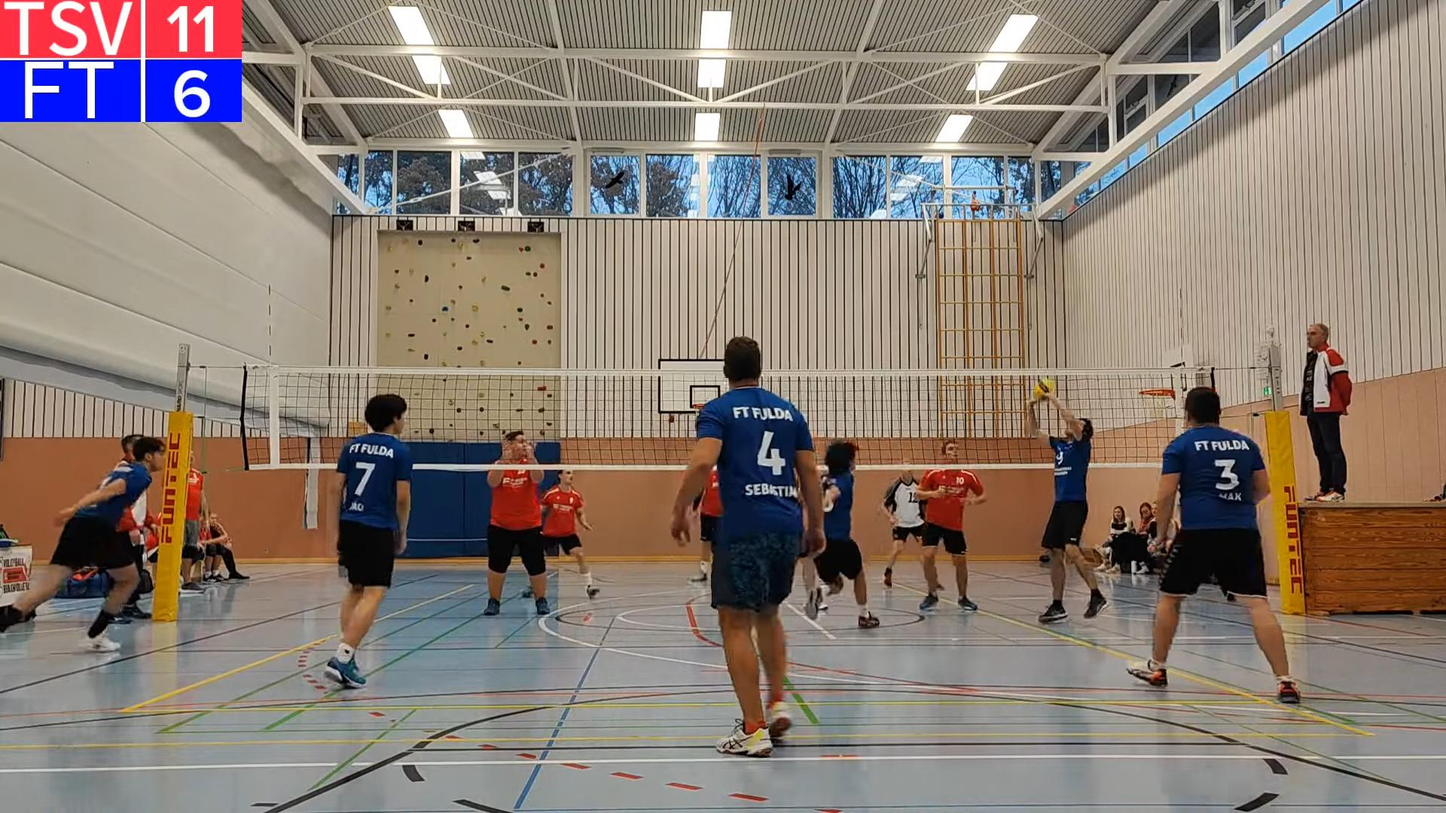alzata: (1023, 393, 1109, 631)
